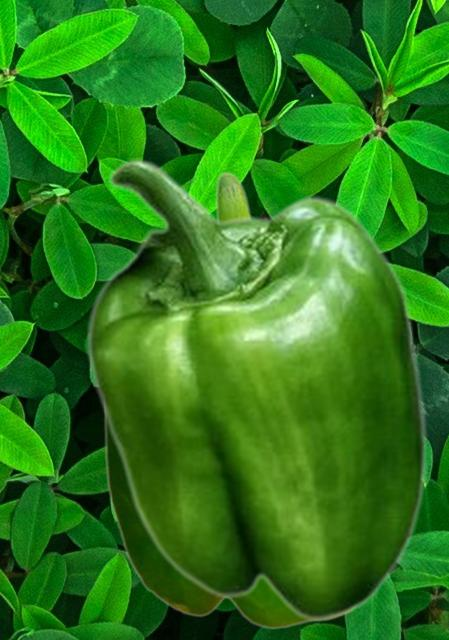bell_pepper: (85, 158, 428, 621), (102, 171, 351, 629)
